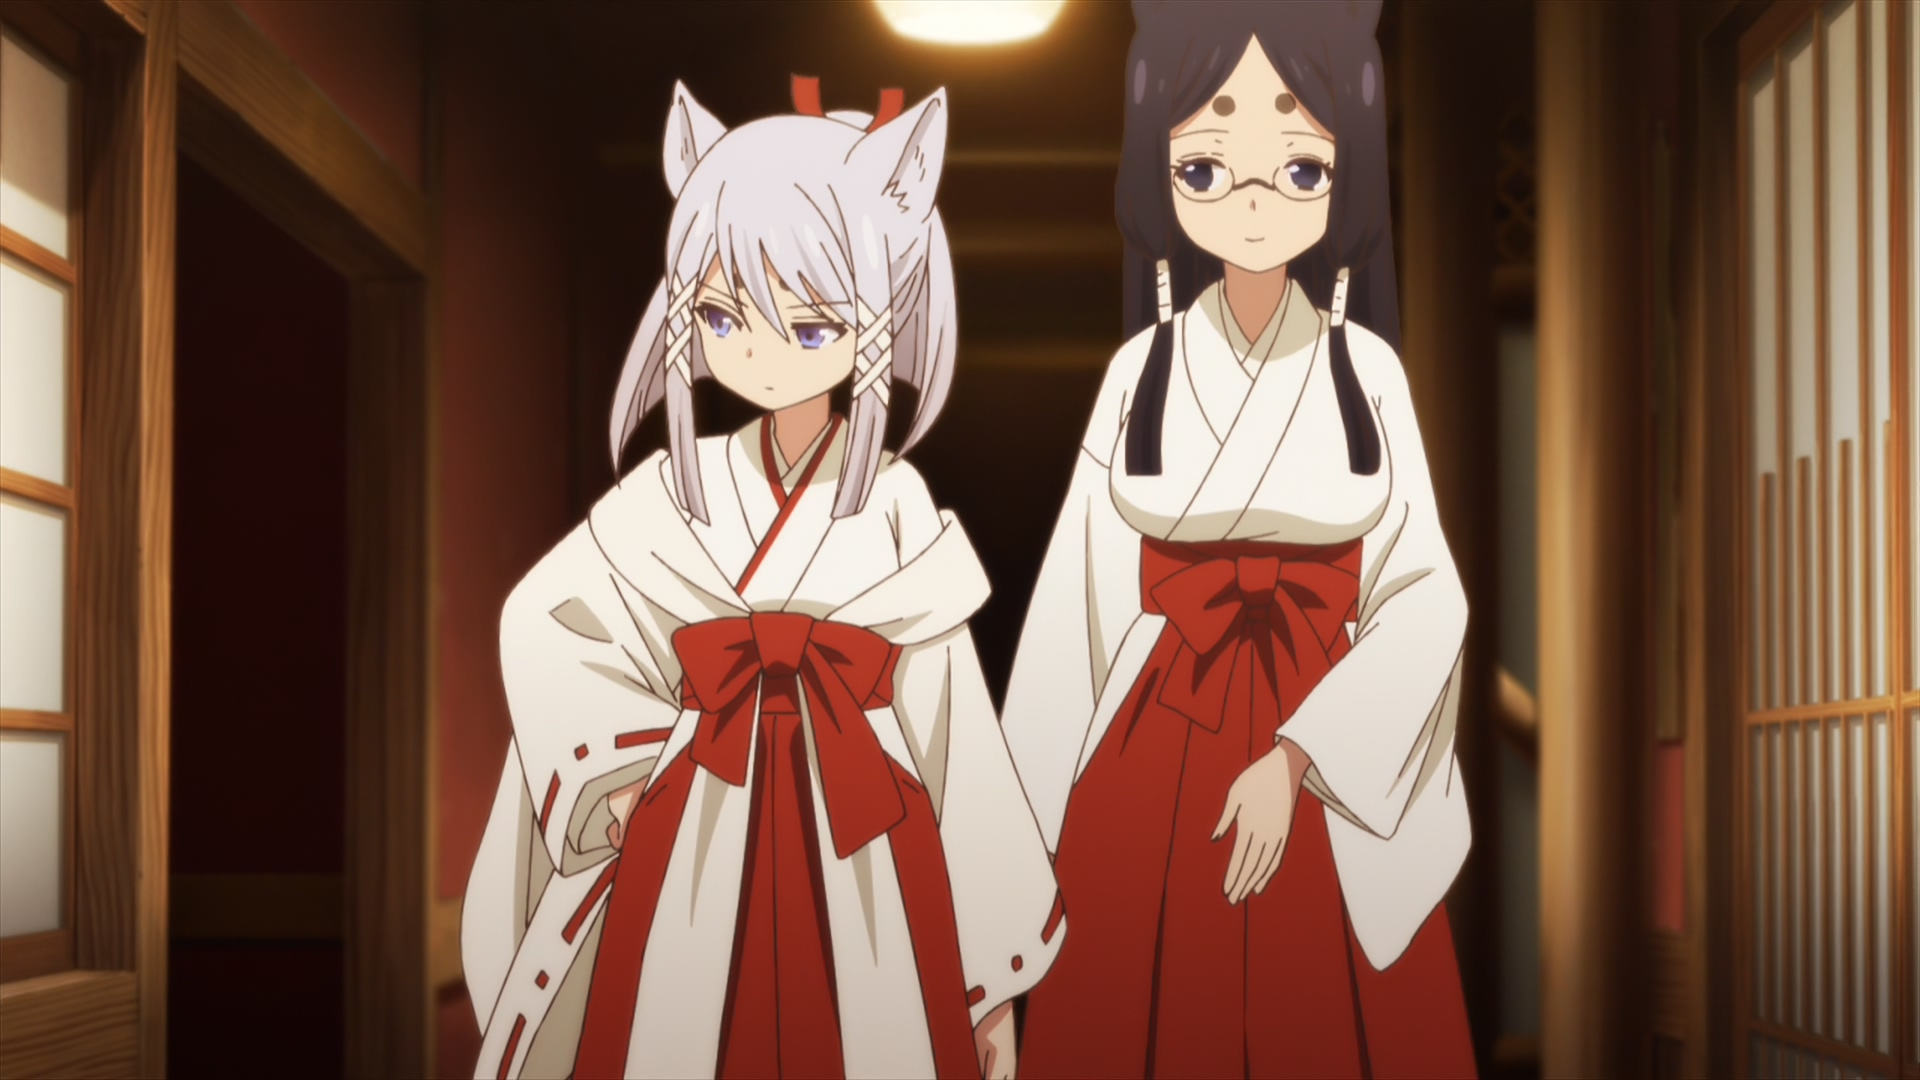柊: (459, 78, 1067, 1080)
菖: (996, 1, 1473, 1080)
